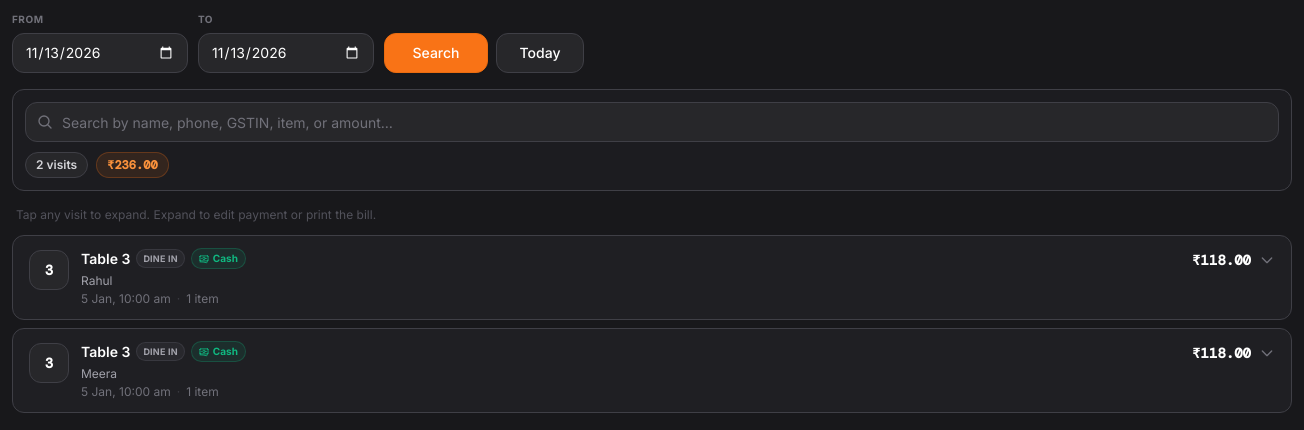
Test: search narrows the loaded visits without a new request
Expected: the text "2 visits" is shown, [25, 152, 88, 178]
Type "meera" into the search field named "Search visits".
click(652, 122); type("meera")  # box [25, 102, 1279, 142]
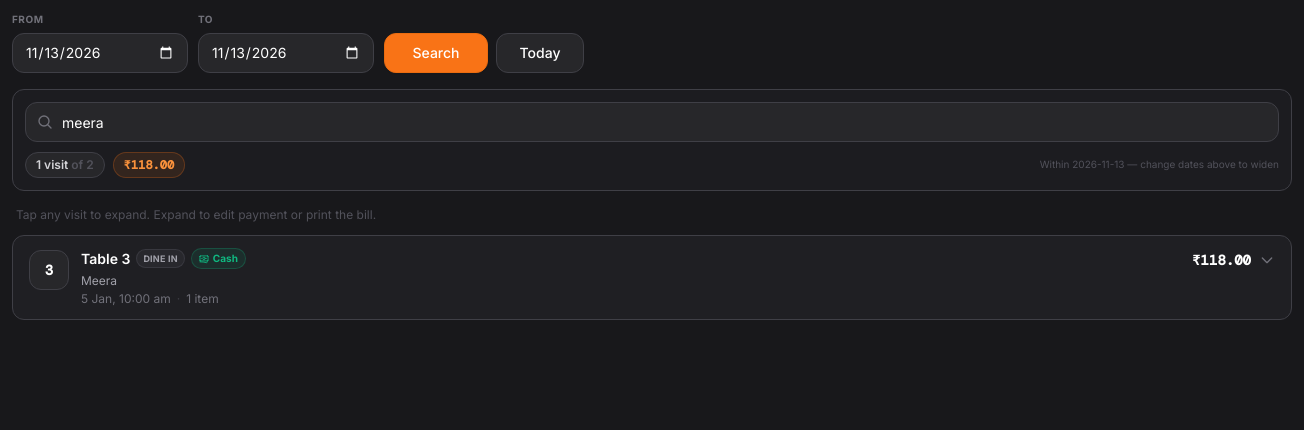
Expected: the text "1 visit of 2" is shown, [25, 152, 105, 178]
